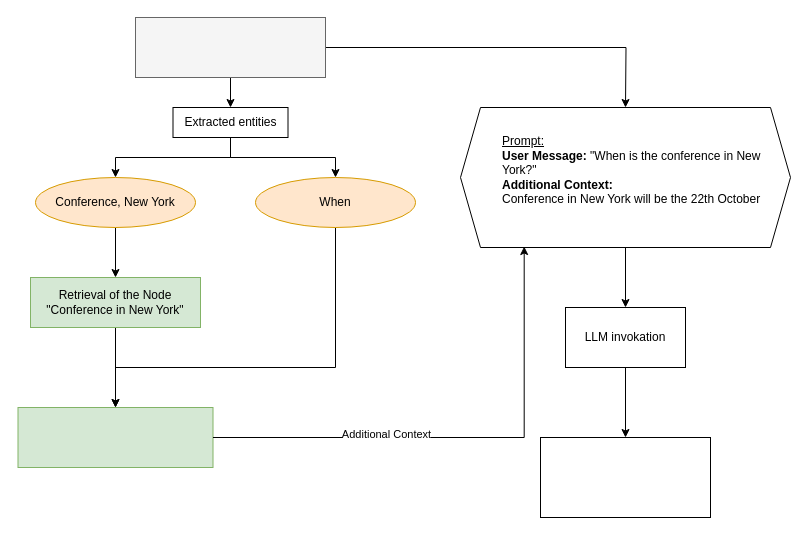
Image size: 808x535. Some labels were removed from this diagram. Each missing label, with the box of its shape:
LLM output: "The conference in New York will be the 22th October: (540, 436, 710, 518)
Lookup to the related information filtering for "where" topics: (17, 406, 213, 468)
User Asks: When is the Conference in New York ?: (134, 16, 326, 78)
